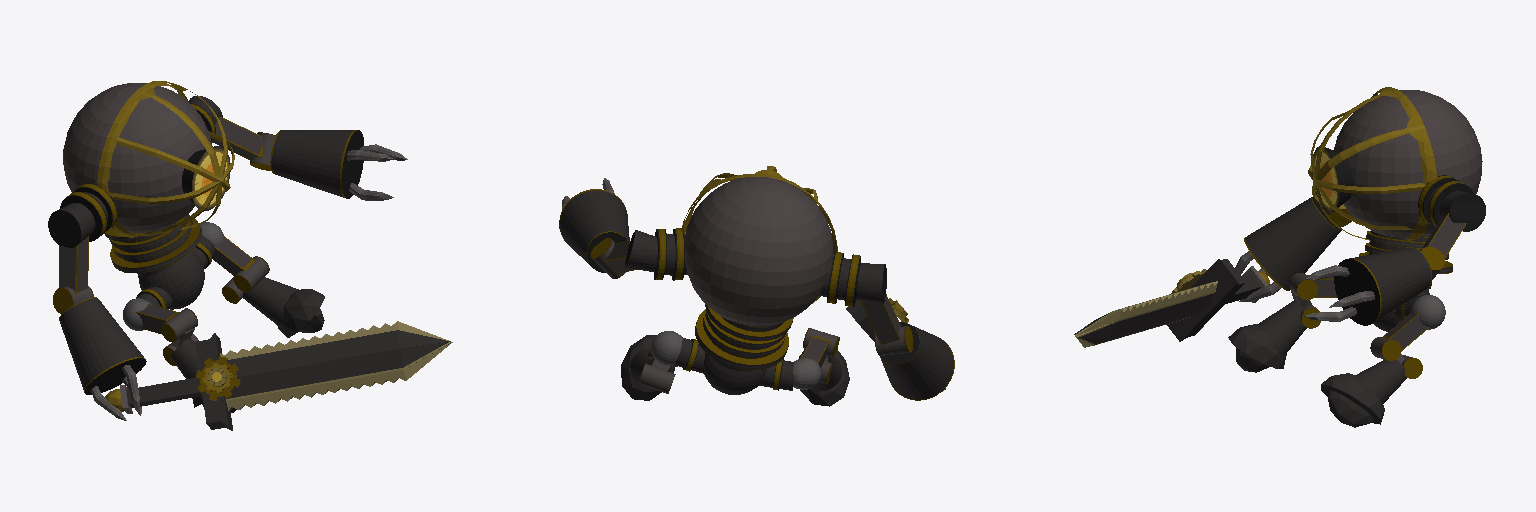
The picture shows the model from 3 angles: view 1: azimuth 30°, elevation 25°; view 2: azimuth 150°, elevation 25°; view 3: azimuth 270°, elevation 25°; orthographic projection.
Parts seen in each view (by area): view 1: ICO球.001; view 2: ICO球.001; view 3: ICO球.001.
Part boxes in pixels (x1,y1,x2,y2): ICO球.001: (48,81,452,430); ICO球.001: (559,166,954,406); ICO球.001: (1074,87,1485,427).
Bounding box in the file's own units: 9.7 × 7.21 × 9.78.
Materials: 17 (17 with a texture image).